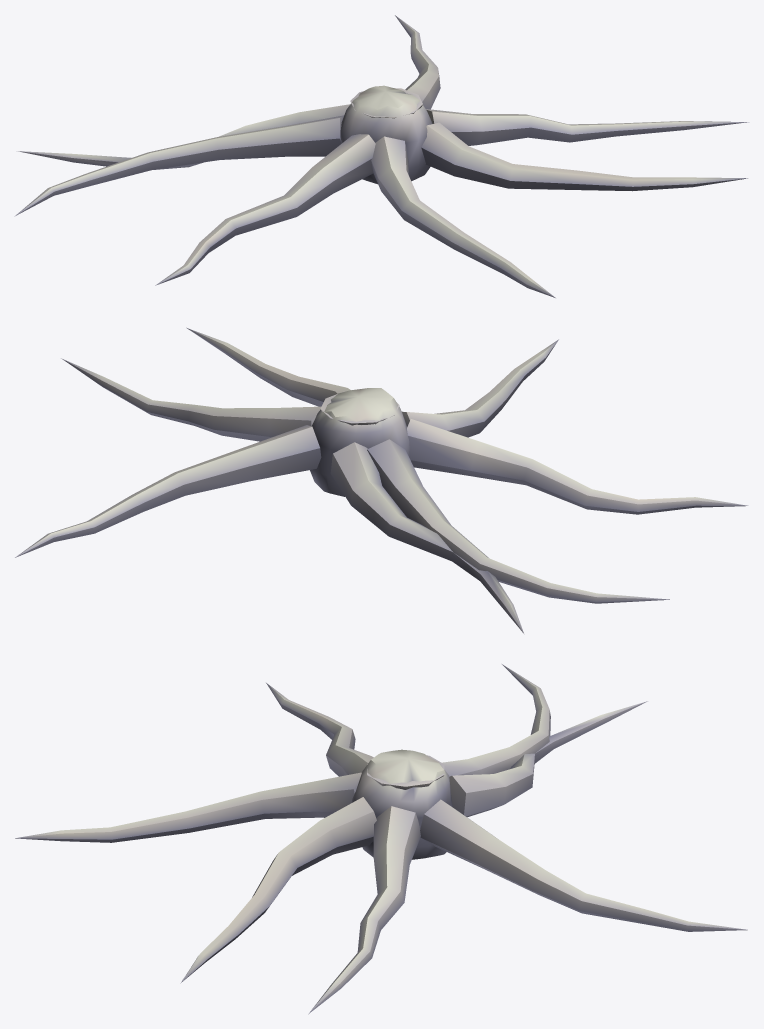
File: roots-CMfPGEoc.glb
3 views of the same model, one above another, from view 1: azimuth 30°, elevation 25°; view 2: azimuth 150°, elevation 25°; view 3: azimuth 270°, elevation 25° (orthographic). The views are drawn at different scales.
Parts seen in each view (by area): view 1: roots; view 2: roots; view 3: roots.
Boxes of the visible parts, <box> form: roots: <box>14,15,749,297</box>; roots: <box>15,327,748,633</box>; roots: <box>15,664,747,1014</box>.
Bounding box in the file's own units: 5.31 × 0.6717 × 4.7.
